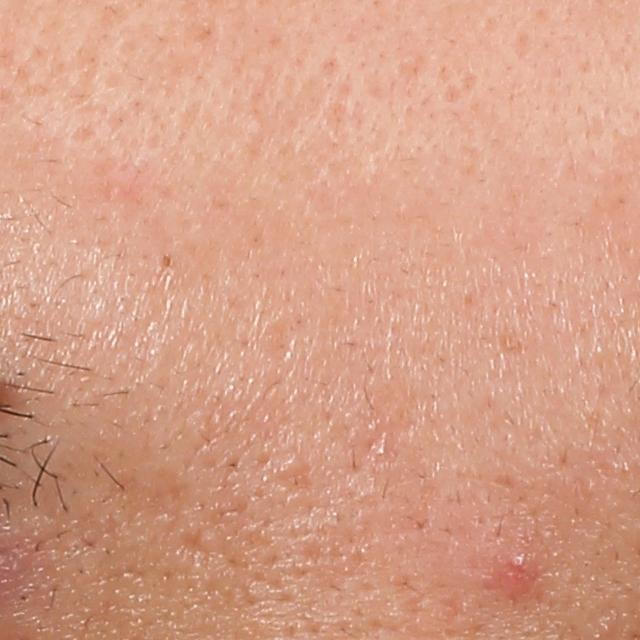atrophic_scar: (275, 78, 325, 148), (260, 315, 297, 363), (511, 32, 529, 64)
papule: (502, 553, 532, 591)
